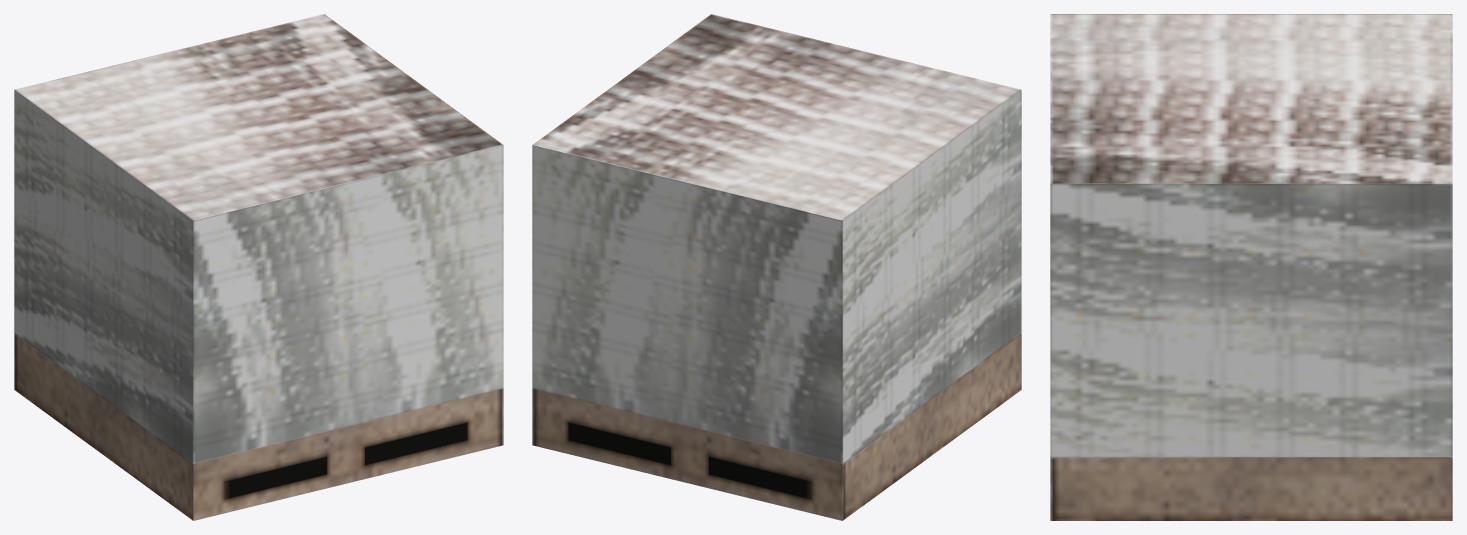
The model's file is PaletteMoney01C.obj.
The picture shows the model from 3 angles, left to right: view 1: azimuth 30°, elevation 25°; view 2: azimuth 150°, elevation 25°; view 3: azimuth 270°, elevation 25°; orthographic projection. The views are drawn at different scales.
Parts seen in each view (by area): view 1: PaletteMoney01C; view 2: PaletteMoney01C; view 3: PaletteMoney01C.
Boxes of the visible parts, x1,y1,x2,y2 form: PaletteMoney01C: (14,14,503,520); PaletteMoney01C: (532,14,1021,520); PaletteMoney01C: (1050,14,1452,520).
Size of the model in its own units: 2 by 1.85 by 2.
